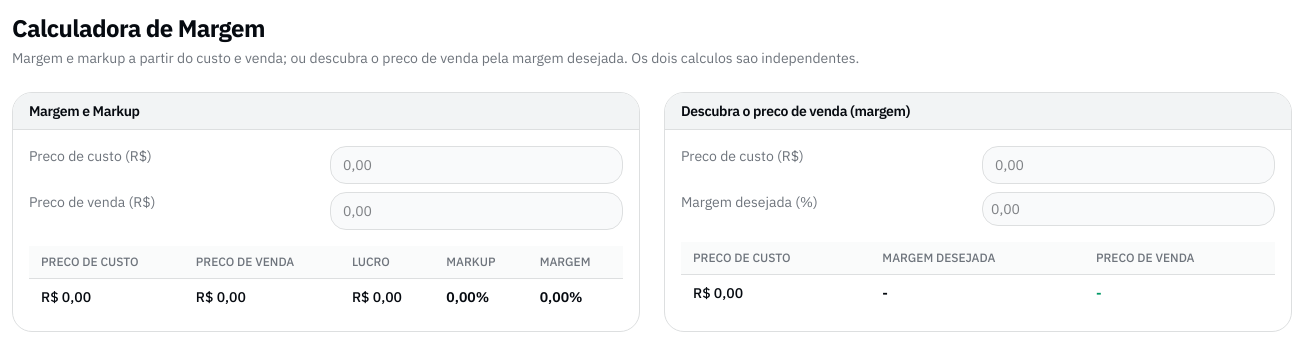
Test: CalculadoraMargem — estados independentes › preco de custo do card direito nao altera o esquerdo
The image size is (1292, 349).
Type "250" into the field with id "margem-custo" at {"x": 1128, "y": 165}, box [982, 146, 1275, 184]
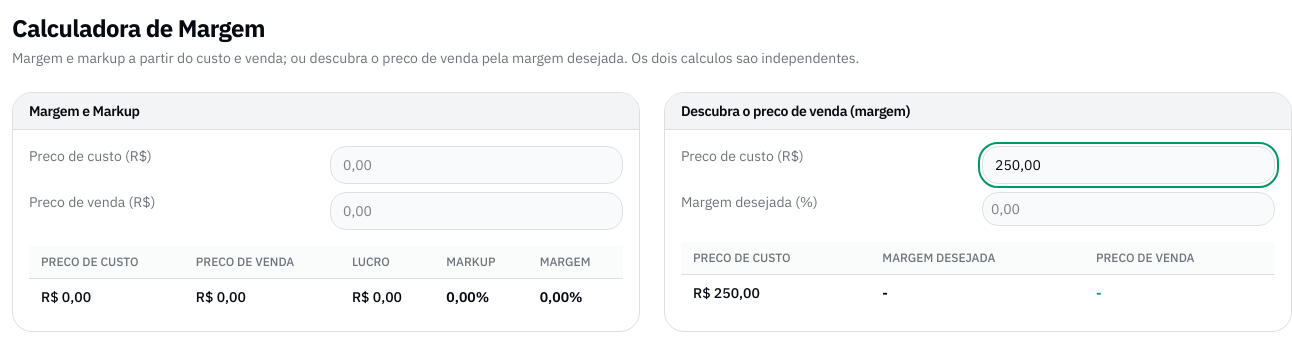
expect the field with id "markup-custo" is empty: met, box [330, 146, 623, 184]
expect the field with id "margem-custo" is not empty: met, box [982, 146, 1275, 184]
